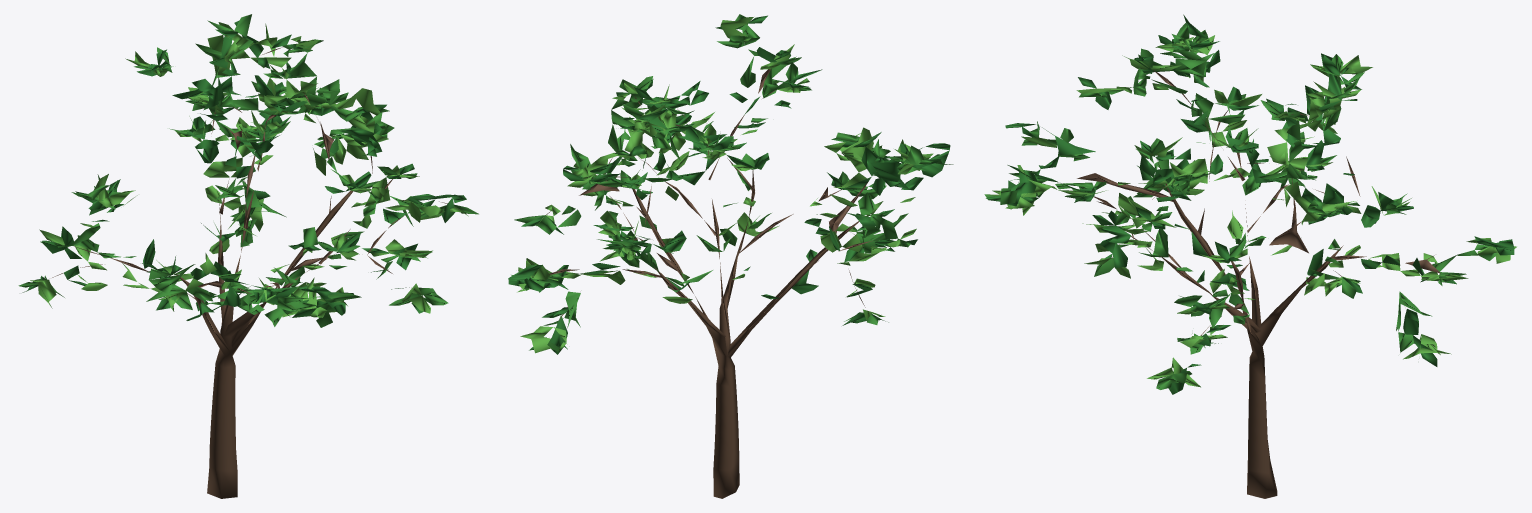
The picture shows the model from 3 angles, left to right: view 1: azimuth 30°, elevation 25°; view 2: azimuth 150°, elevation 25°; view 3: azimuth 270°, elevation 25°; orthographic projection. The views are drawn at different scales.
Parts seen in each view (by area): view 1: body; view 2: body; view 3: body.
Part boxes in pixels (bbox=[...]): body: bbox=[18, 14, 478, 498]; body: bbox=[508, 14, 953, 498]; body: bbox=[984, 14, 1516, 498].
Size of the model in its own units: 1.88 by 2.08 by 2.25.
1 material, 1 textured.
